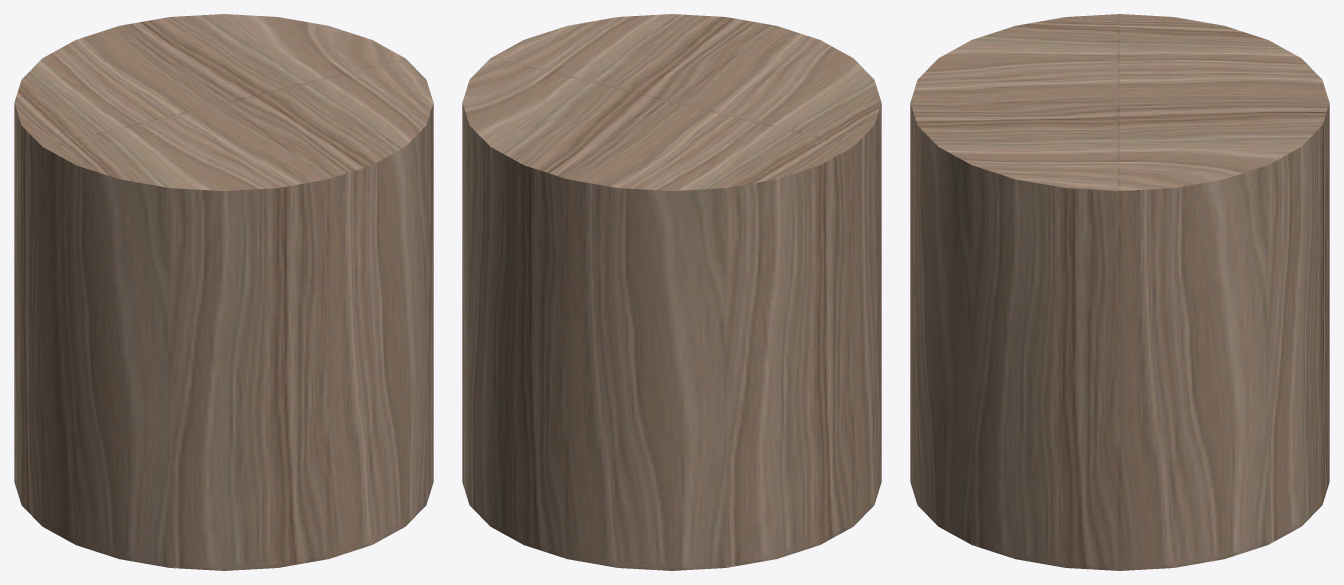
File: MedicalGauze.obj
3 renders of one model, left to right at view 1: azimuth 30°, elevation 25°; view 2: azimuth 150°, elevation 25°; view 3: azimuth 270°, elevation 25°, orthographic.
Bounding box in the file's own units: 0.4 × 0.4 × 0.4.
Materials: 1 (1 with a texture image).
